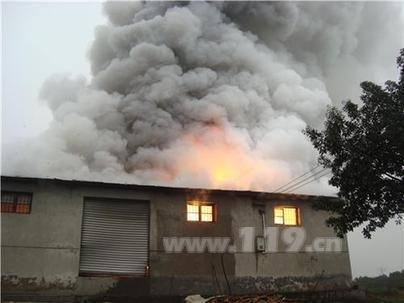fire: (208, 154, 246, 186), (185, 197, 215, 221), (271, 203, 298, 225)
